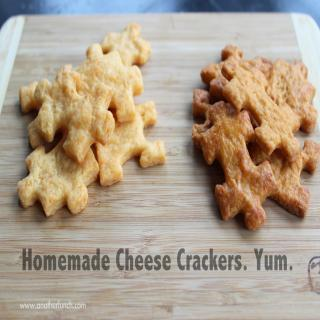Cookie: (16, 21, 166, 219), (192, 42, 320, 231)
